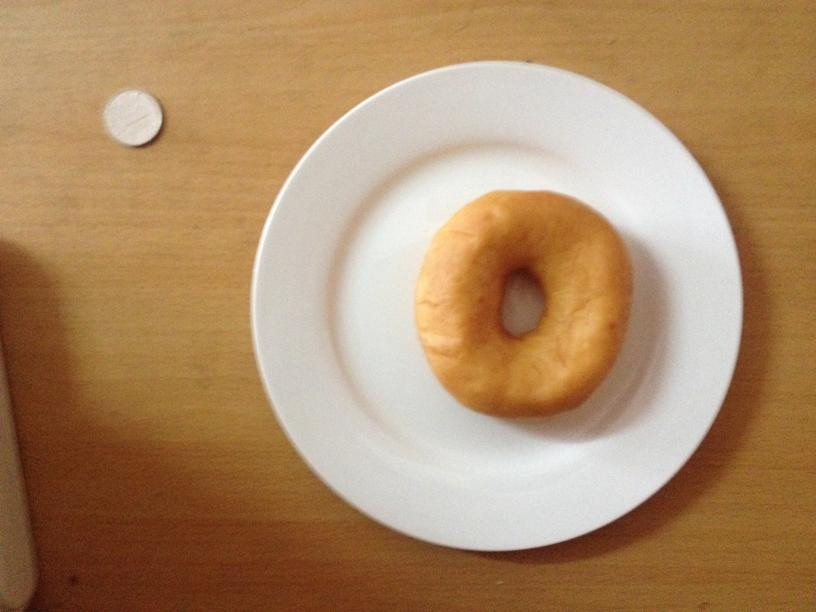coin: (105, 90, 162, 145)
doughnut: (411, 193, 633, 416)
